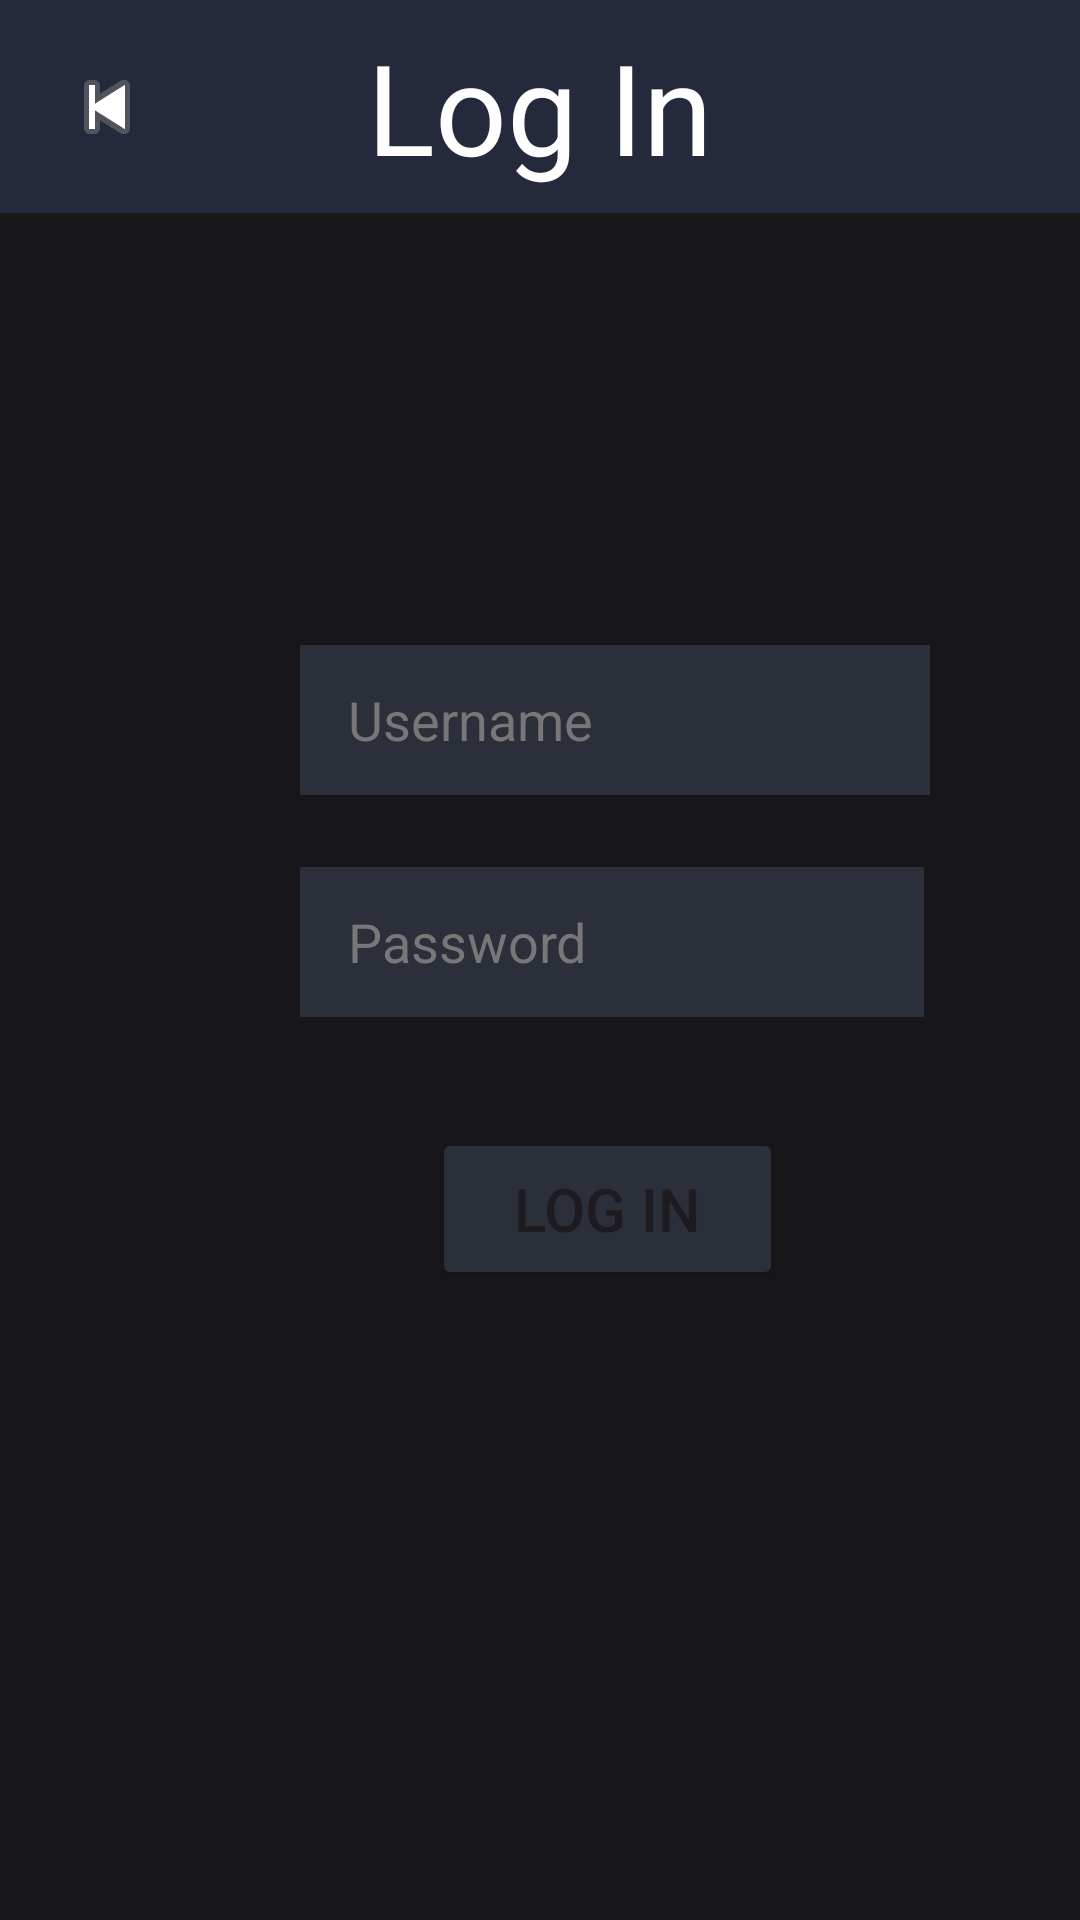

Screen size 1080*1920. Icon name, then its center in pixels as point (x, y):
previous: point (107, 107)
